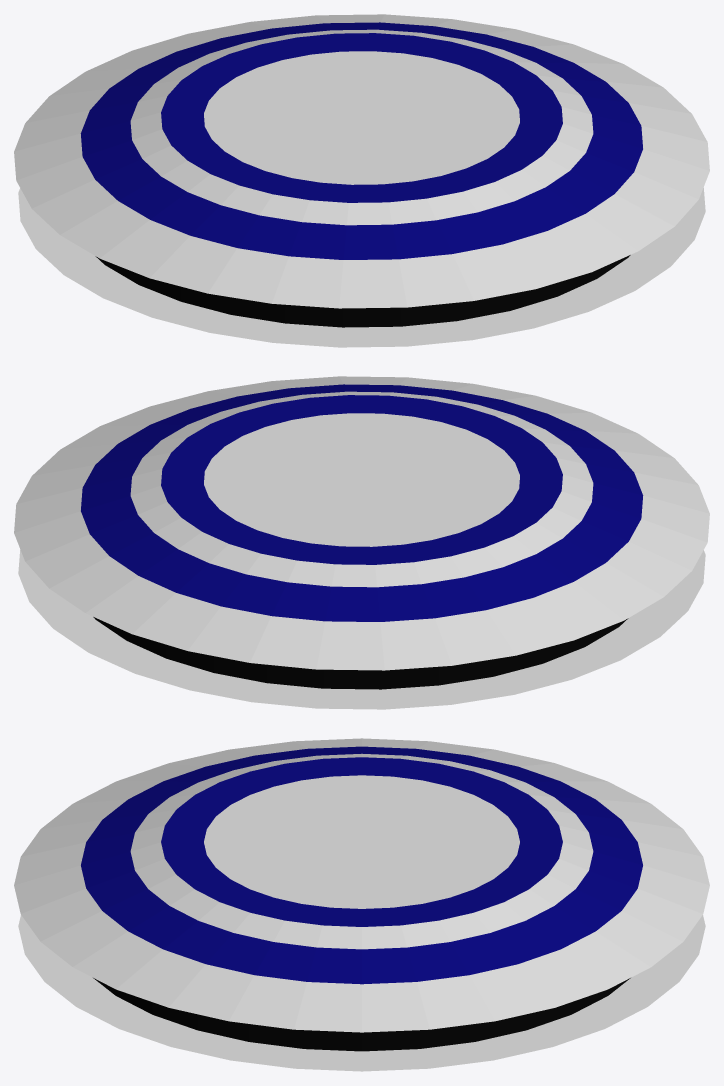
Rendered from LevitationDisc 1.fbx.
3 renders of one model, top to bottom at view 1: azimuth 30°, elevation 25°; view 2: azimuth 150°, elevation 25°; view 3: azimuth 270°, elevation 25°, orthographic.
Parts seen in each view (by area): view 1: LevitationDisc; view 2: LevitationDisc; view 3: LevitationDisc.
Part boxes in pixels (left/top/right/bottom): LevitationDisc: left=14, top=14, right=709, bottom=347; LevitationDisc: left=14, top=376, right=709, bottom=709; LevitationDisc: left=14, top=738, right=709, bottom=1071.
Bounding box in the file's own units: 41.49 × 41.49 × 8.53.
